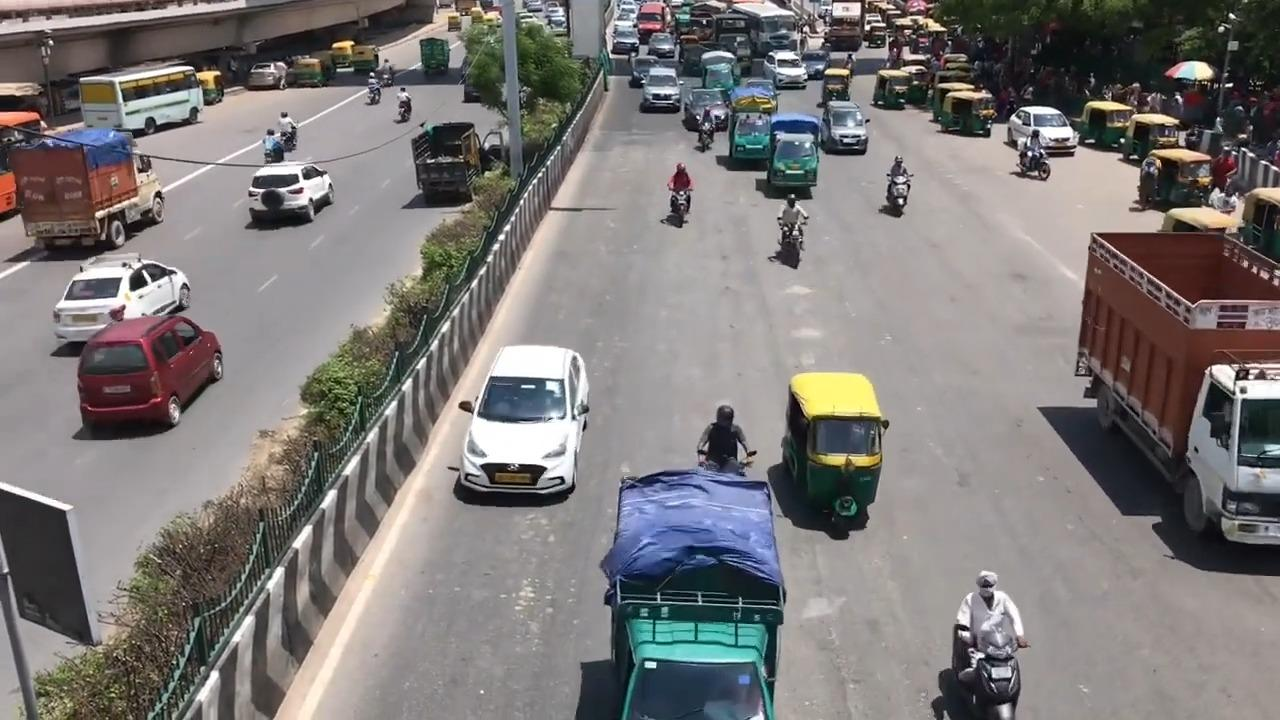Auto: (780, 370, 889, 520), (196, 69, 224, 104), (350, 44, 379, 72)
Bike: (951, 568, 1029, 719), (696, 405, 756, 477), (776, 192, 807, 268), (1015, 128, 1051, 180), (885, 154, 912, 219), (669, 162, 693, 228), (695, 105, 714, 153), (278, 111, 298, 151), (263, 126, 283, 165), (396, 85, 411, 121), (365, 71, 381, 104), (378, 57, 393, 86), (844, 50, 857, 80)
Bus: (78, 63, 204, 136)
Car: (456, 343, 590, 497), (76, 313, 223, 430), (52, 252, 191, 344), (247, 161, 334, 223), (1006, 105, 1078, 154), (818, 100, 870, 154), (641, 66, 682, 110), (245, 60, 287, 90)
Truck: (1075, 228, 1280, 547), (601, 467, 786, 719), (6, 126, 166, 250), (410, 120, 504, 203), (766, 132, 819, 188), (728, 111, 771, 162), (419, 37, 450, 75)
